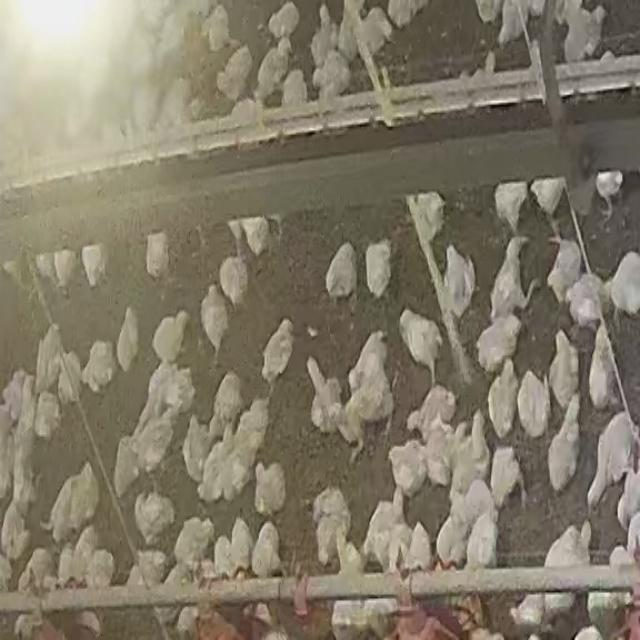chicken: (586, 411, 636, 510), (45, 462, 100, 544), (124, 557, 174, 634), (9, 382, 40, 502), (546, 398, 584, 493), (490, 236, 532, 320), (398, 308, 443, 386), (197, 432, 245, 504), (310, 484, 353, 564), (448, 415, 487, 503), (362, 492, 406, 570), (306, 357, 346, 439), (406, 383, 456, 446), (155, 562, 197, 635), (586, 325, 620, 413), (473, 315, 522, 376), (556, 1, 604, 62), (544, 237, 582, 309), (486, 360, 520, 440), (544, 522, 595, 575), (262, 317, 298, 391), (548, 332, 580, 414), (386, 438, 429, 498), (170, 515, 214, 573), (441, 245, 478, 313), (356, 378, 400, 435), (132, 489, 175, 547), (515, 368, 549, 441), (488, 443, 524, 511), (566, 273, 605, 334), (350, 332, 391, 390), (129, 419, 171, 475), (145, 369, 195, 416), (512, 592, 569, 633), (310, 49, 352, 104), (418, 422, 454, 486), (150, 310, 190, 367), (608, 250, 640, 321), (457, 478, 496, 536), (232, 398, 270, 457), (34, 325, 64, 399), (217, 46, 255, 104), (200, 284, 230, 356), (80, 338, 117, 396), (352, 6, 392, 59), (254, 41, 290, 99), (179, 410, 209, 479), (465, 511, 500, 570), (325, 242, 357, 306), (493, 182, 528, 236), (251, 520, 283, 579), (1, 497, 31, 557), (218, 254, 249, 312), (116, 305, 142, 373), (435, 512, 466, 568), (69, 527, 99, 584), (308, 7, 336, 68), (411, 191, 447, 238), (256, 460, 286, 516), (529, 177, 566, 222), (208, 378, 238, 433), (1, 368, 29, 426), (201, 3, 233, 52), (33, 388, 61, 443), (228, 516, 255, 573), (21, 545, 54, 591), (368, 240, 393, 300), (198, 445, 222, 505), (133, 548, 169, 588), (267, 1, 301, 42), (497, 0, 527, 46), (407, 520, 433, 573), (240, 216, 272, 258), (88, 551, 122, 590), (144, 231, 170, 281), (55, 352, 79, 406), (80, 243, 108, 289), (112, 437, 133, 495), (595, 170, 623, 212), (280, 67, 308, 108), (52, 250, 78, 294), (386, 0, 424, 29), (228, 96, 259, 130), (213, 533, 235, 576), (56, 544, 77, 587), (35, 252, 58, 290), (624, 508, 640, 559), (608, 545, 634, 572), (2, 258, 26, 287), (0, 550, 14, 592), (227, 218, 246, 246)
